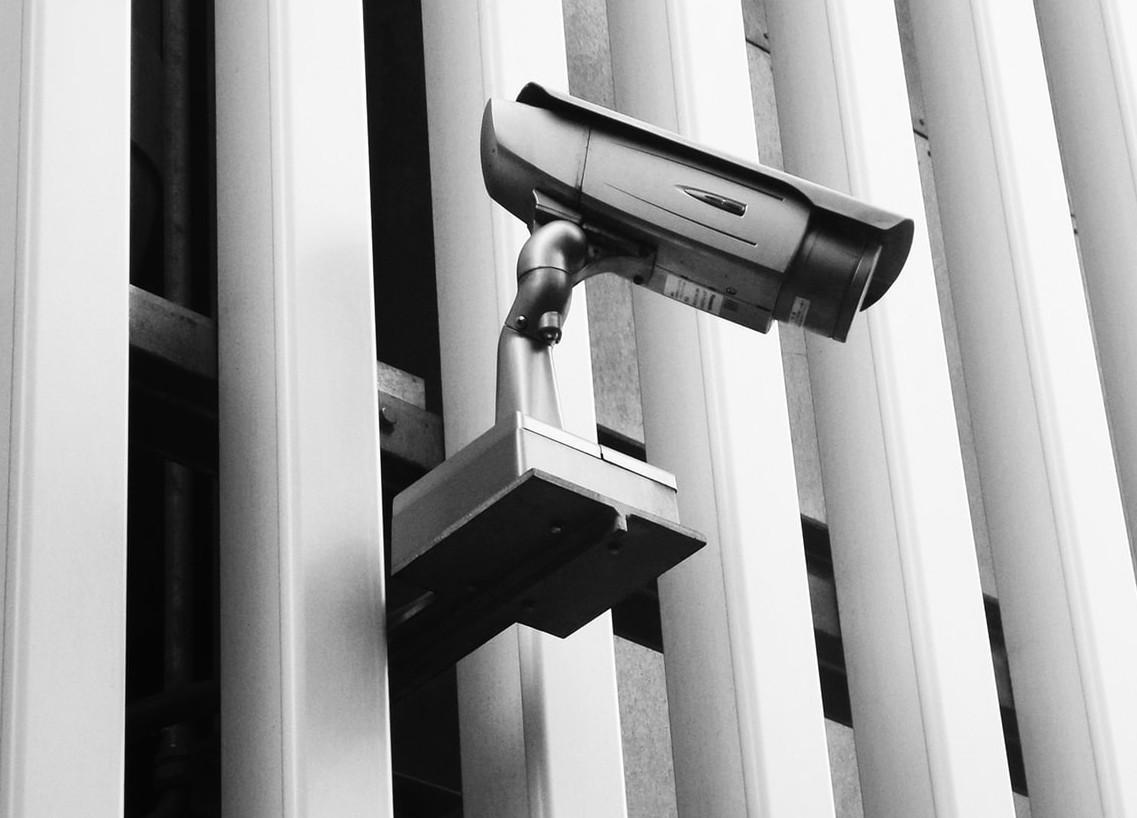CCTV: (481, 82, 915, 341), (498, 305, 556, 425)
